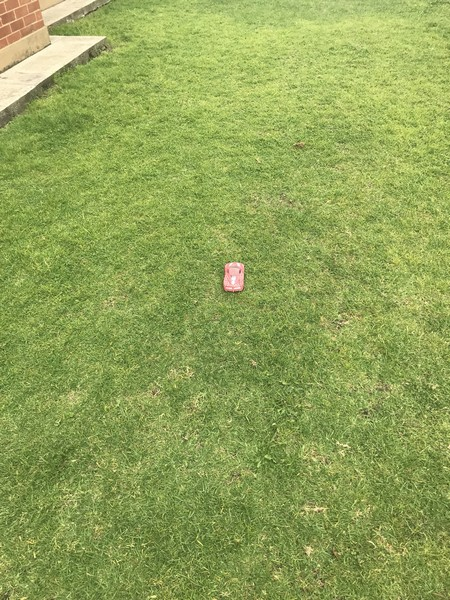RC: (220, 260, 248, 294)
